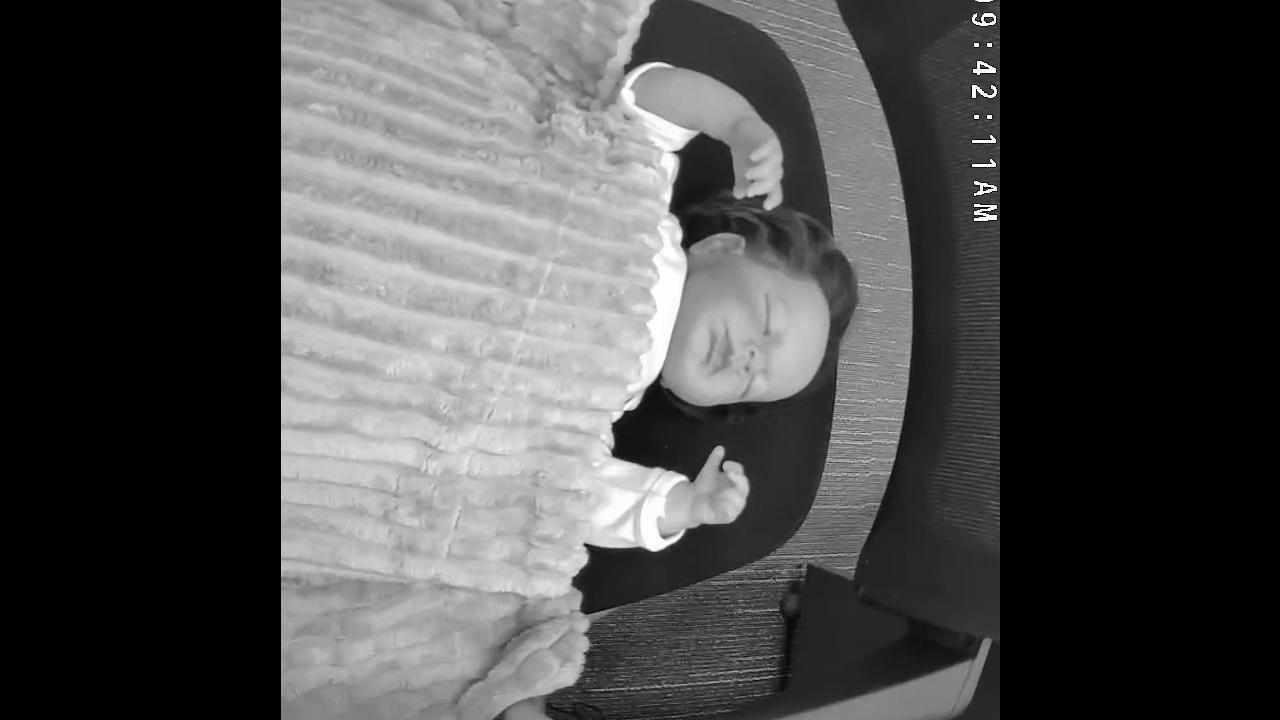hand: (687, 443, 748, 528), (725, 126, 784, 211)
